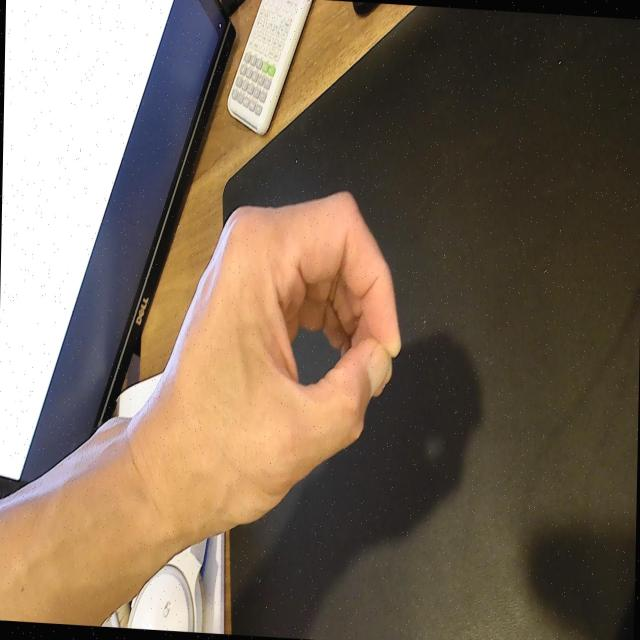O: (176, 175, 410, 540)
